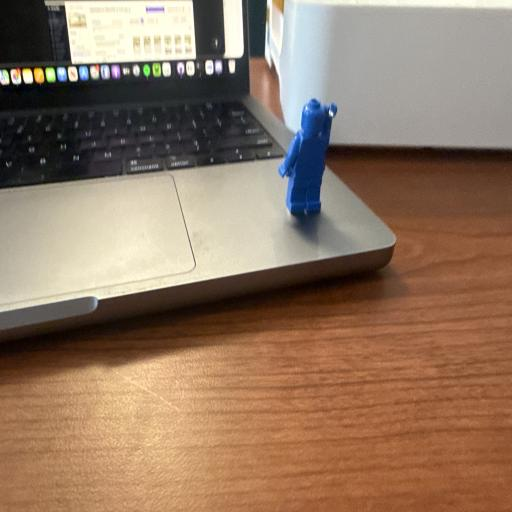Minifig: (278, 99, 332, 214)
